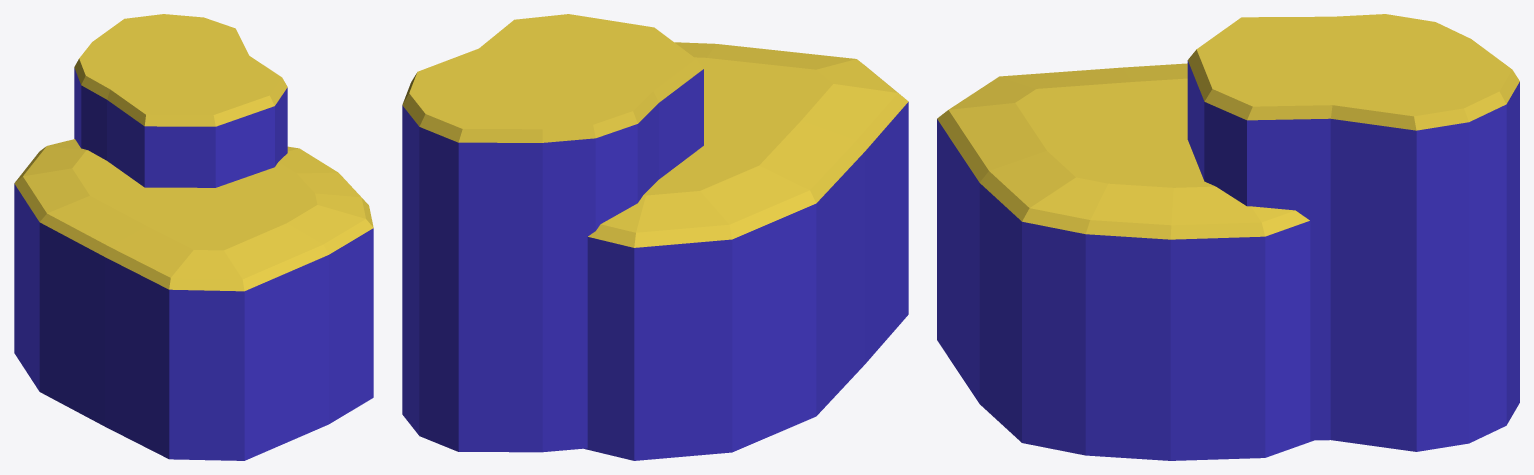
File: hillC.glb
3 renders of one model, left to right at view 1: azimuth 30°, elevation 25°; view 2: azimuth 150°, elevation 25°; view 3: azimuth 270°, elevation 25°, orthographic. The views are drawn at different scales.
Visible parts, largest first — view 1: Cylinder, Cylinder.001; view 2: Cylinder, Cylinder.001; view 3: Cylinder, Cylinder.001.
Boxes of the visible parts, x1,y1,x2,y2 form: Cylinder: [14, 139, 373, 460]; Cylinder.001: [74, 14, 287, 187]; Cylinder: [584, 42, 908, 460]; Cylinder.001: [402, 14, 703, 452]; Cylinder: [937, 63, 1313, 460]; Cylinder.001: [1187, 14, 1519, 451].
Size of the model in its own units: 5.68 by 5.1 by 8.05.
